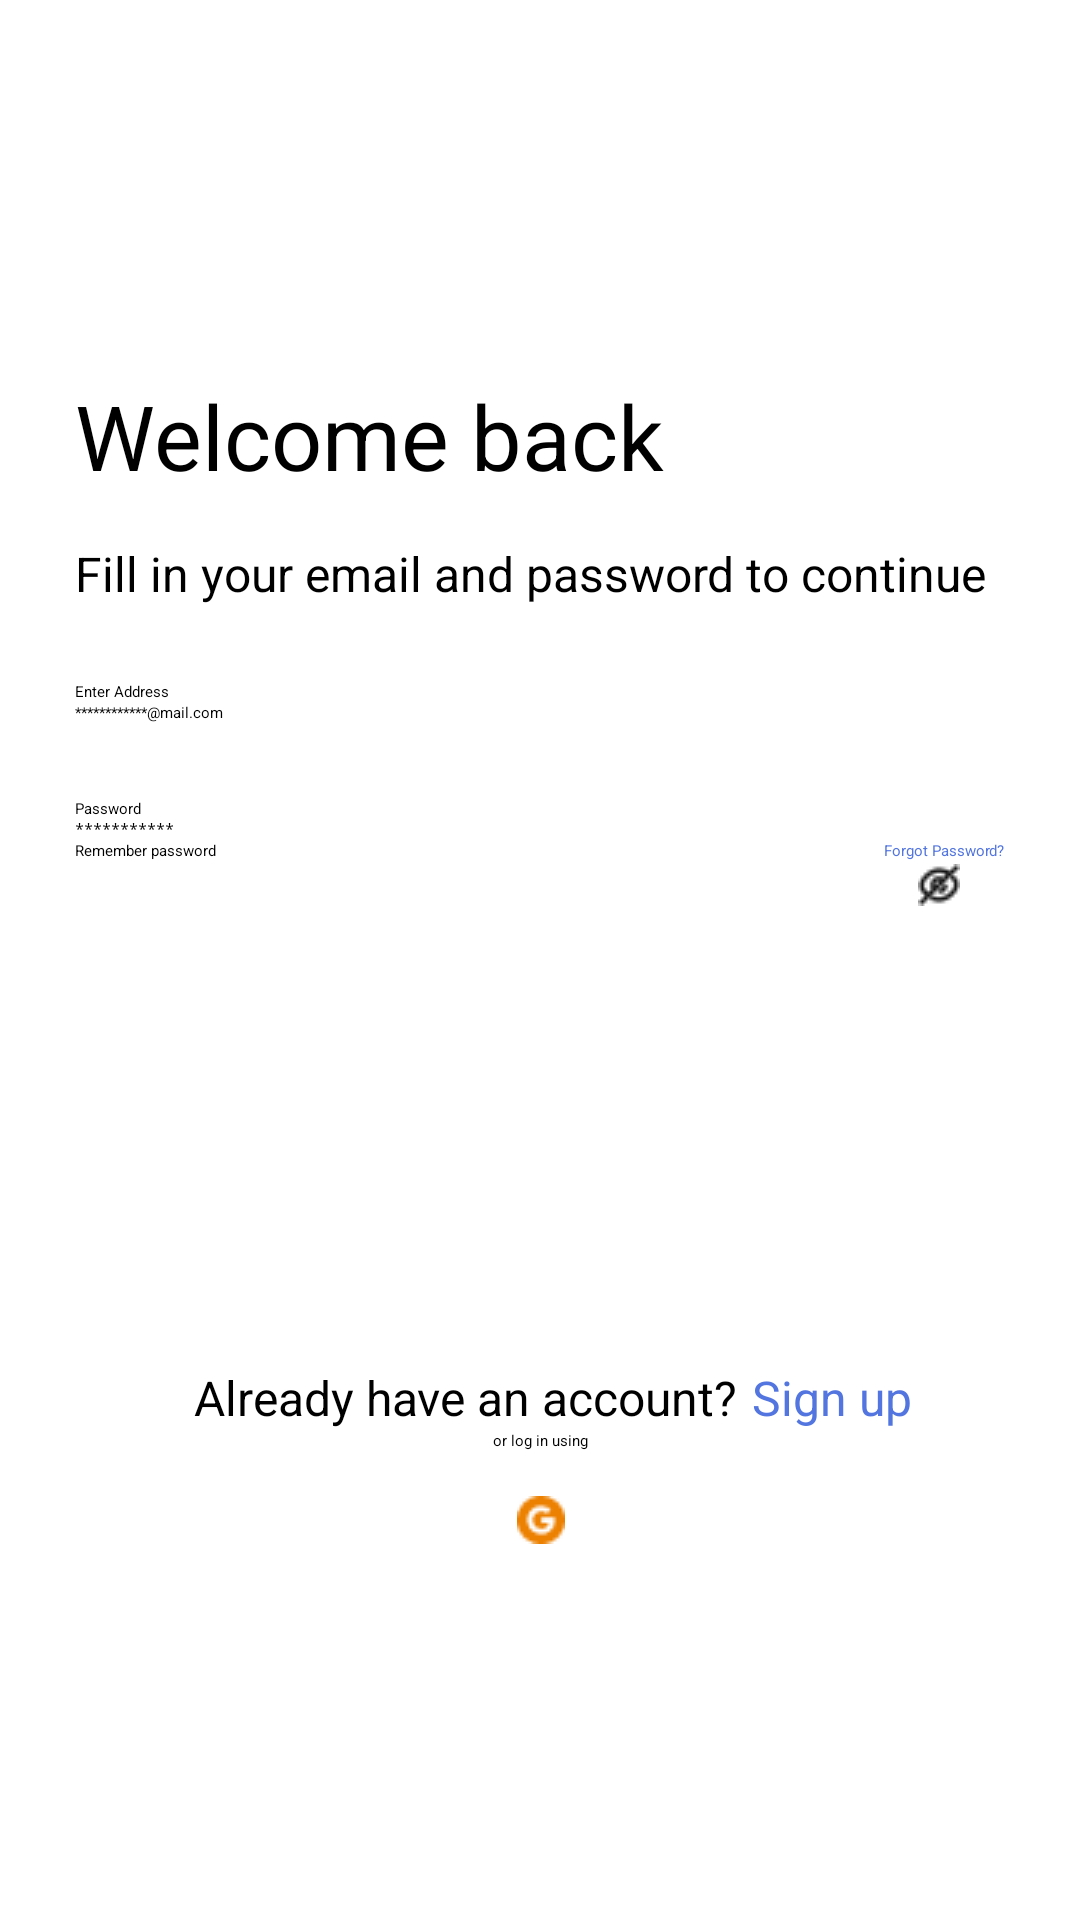

Named icons in this screenshot (1080w x 1920h) and their centers, [x,y]:
eye: [939,885]
